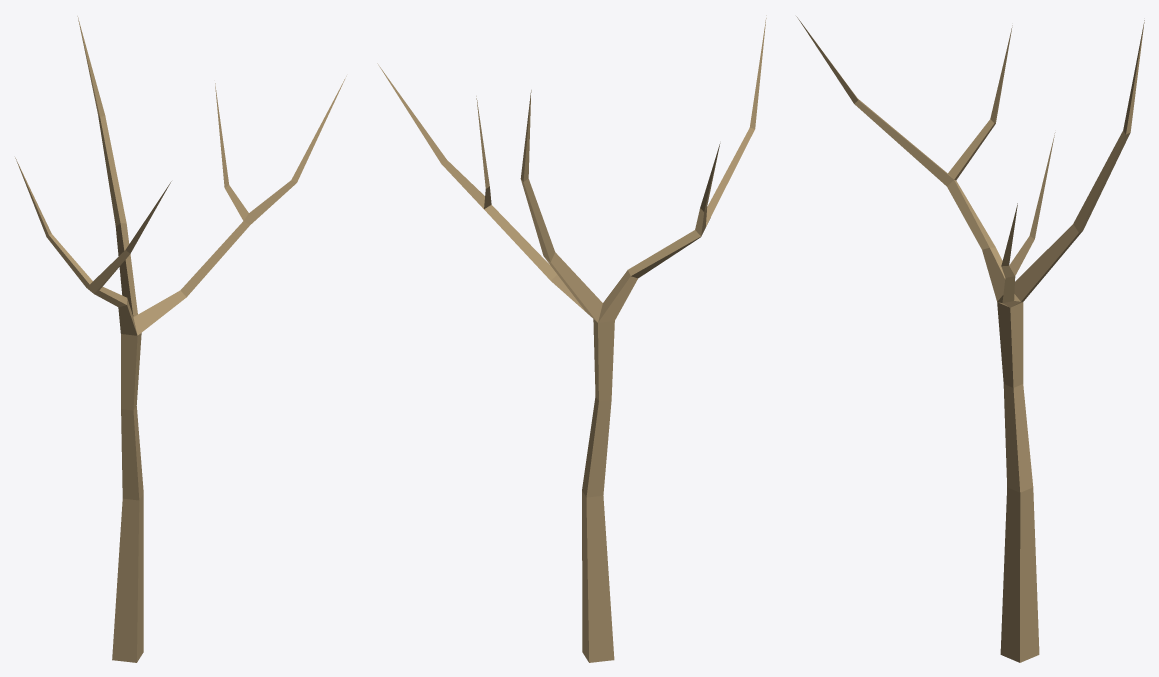
File: Apple_Tree_NoLeaves_s_02_LOD.fbx
3 views of the same model, side by side, from view 1: azimuth 30°, elevation 25°; view 2: azimuth 150°, elevation 25°; view 3: azimuth 270°, elevation 25° (orthographic). The views are drawn at different scales.
Visible parts, largest first — view 1: Apple_Tree_NoLeaves_s_02_LOD0; view 2: Apple_Tree_NoLeaves_s_02_LOD0; view 3: Apple_Tree_NoLeaves_s_02_LOD0.
Boxes of the visible parts, bbox=[...] form: Apple_Tree_NoLeaves_s_02_LOD0: bbox=[15, 16, 346, 662]; Apple_Tree_NoLeaves_s_02_LOD0: bbox=[377, 15, 766, 662]; Apple_Tree_NoLeaves_s_02_LOD0: bbox=[796, 16, 1144, 662].
Size of what is drawn, in the model's own units: 128 by 218 by 108.
